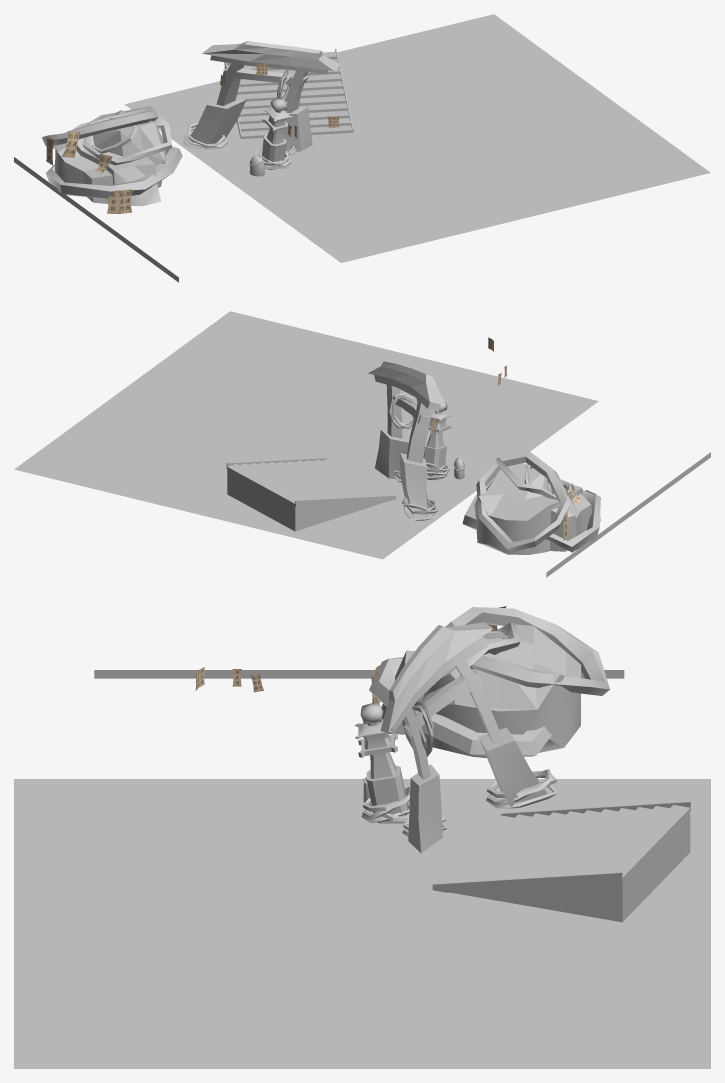
The model's file is Map_Gcarte.FBX.
The picture shows the model from 3 angles, top to bottom: view 1: azimuth 30°, elevation 25°; view 2: azimuth 150°, elevation 25°; view 3: azimuth 270°, elevation 25°; orthographic projection. The views are drawn at different scales.
Parts seen in each view (by area): view 1: Plane002, Cylinder001, door, StraightStair001, Box004, Plane001; view 2: Plane002, Cylinder001, StraightStair001, door, Box004, Plane001; view 3: Plane002, StraightStair001, Cylinder001, door, Box004, Plane001.
Boxes of the visible parts, box(x1,y1,x2,y2) form: Plane002: box(124, 14, 710, 262); Cylinder001: box(42, 106, 182, 213); door: box(182, 41, 339, 155); StraightStair001: box(224, 48, 353, 138); Box004: box(256, 98, 292, 169); Plane001: box(14, 157, 178, 282); Plane002: box(14, 311, 598, 559); Cylinder001: box(462, 451, 600, 554); StraightStair001: box(226, 458, 396, 531); door: box(368, 361, 446, 520); Box004: box(423, 402, 452, 480); Plane001: box(546, 452, 710, 577); Plane002: box(14, 779, 710, 1068); StraightStair001: box(432, 801, 690, 922); Cylinder001: box(369, 606, 609, 757); door: box(380, 622, 557, 853); Box004: box(355, 703, 410, 823); Plane001: box(94, 670, 624, 678).
Bounding box in the file's own units: 1465 × 334 × 1079.
